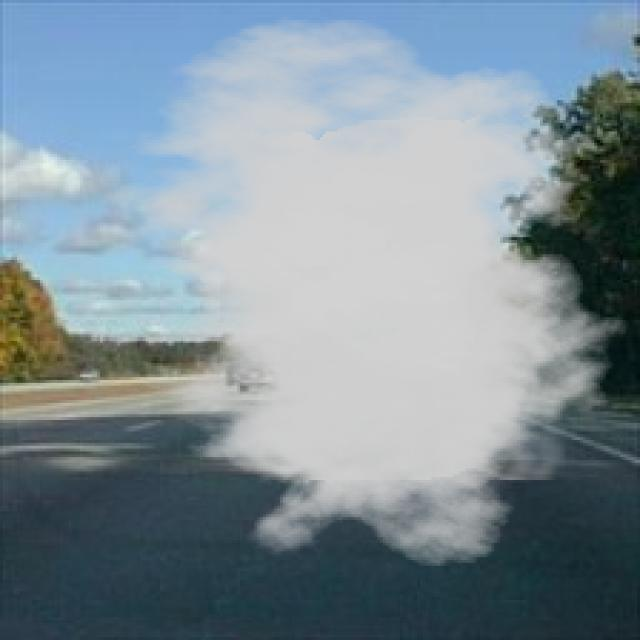smoke: (77, 17, 637, 569)
